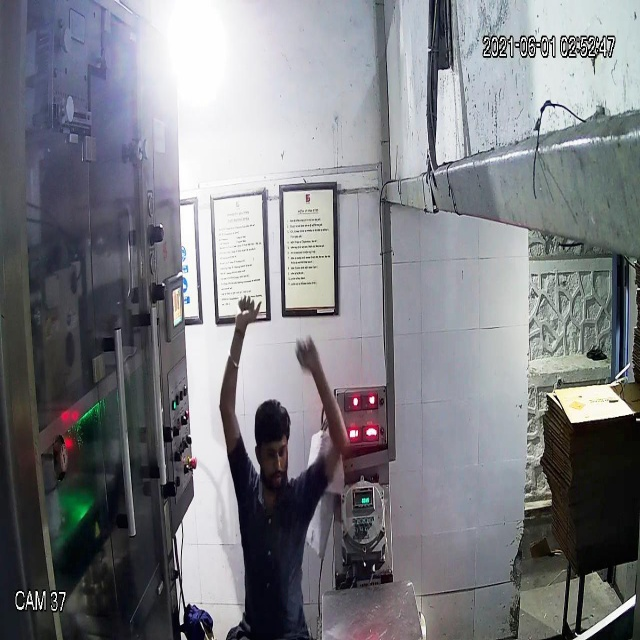Sin_gafas: (253, 432, 292, 468)
